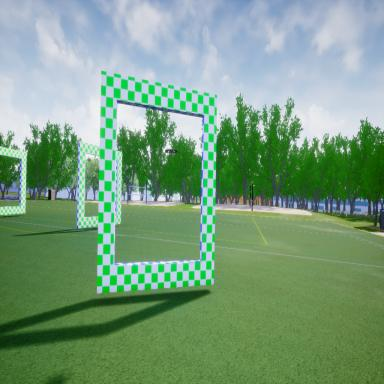gate: (98, 68, 217, 301)
